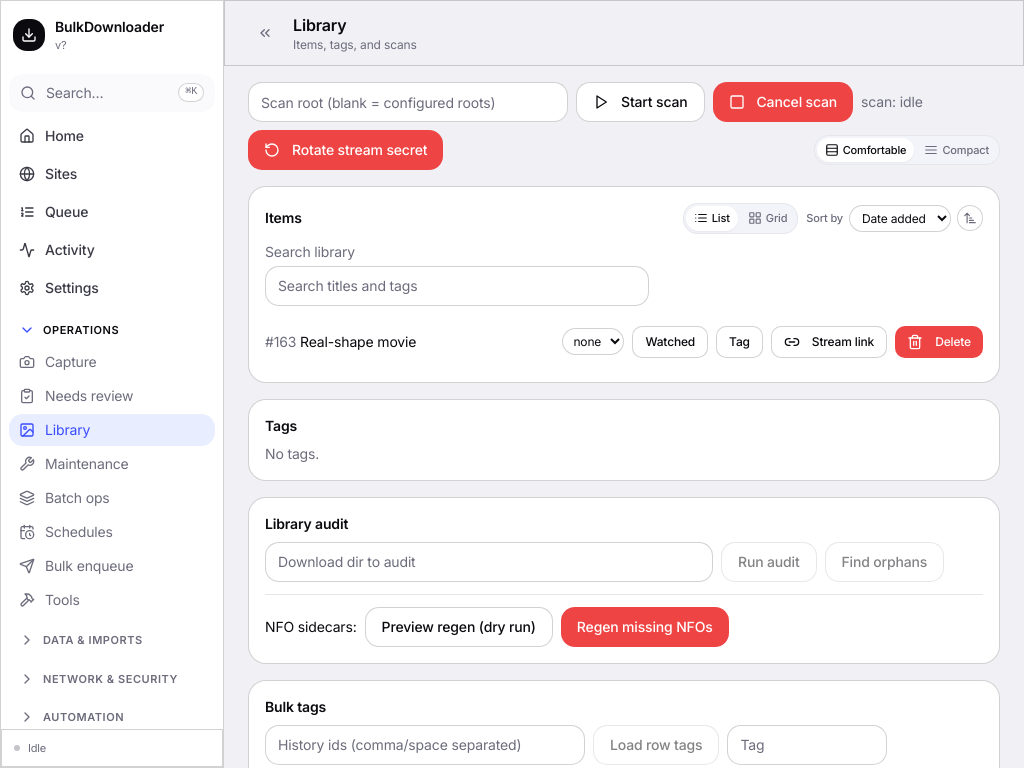
F019 Library item preview with BD's row shape › shows the file_path and tag names of a real browse row
Click the button "Real-shape movie".
click(358, 342)  # box [300,332,416,352]
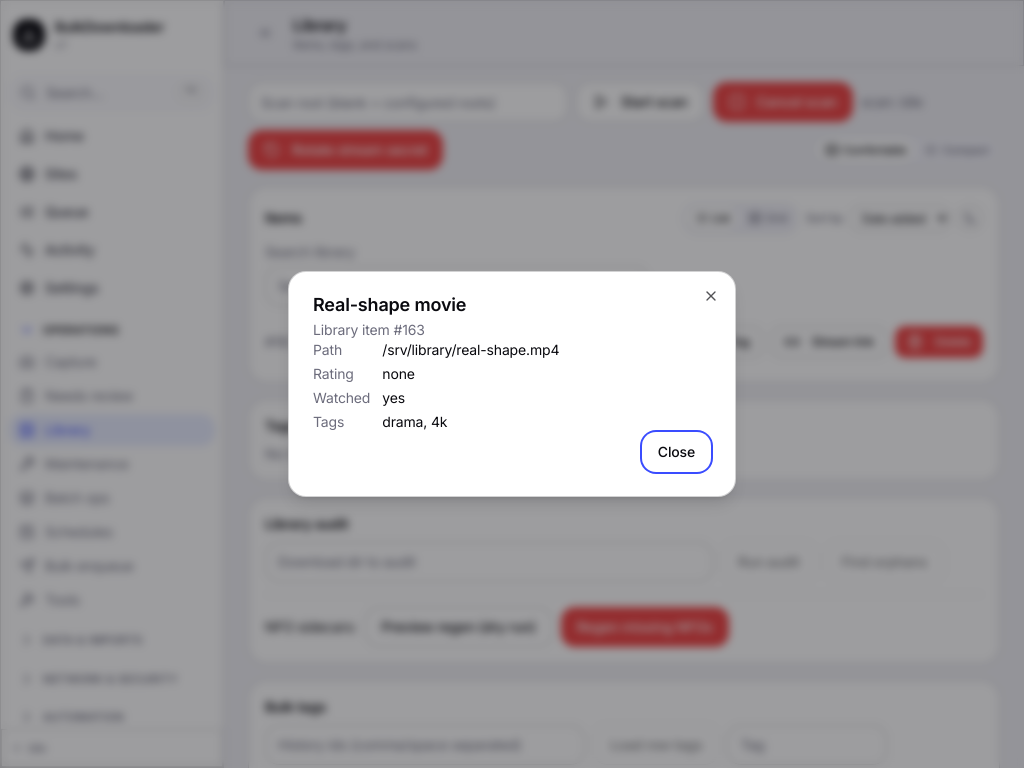
Result: the text "/srv/library/real-shape.mp4" is shown at [382,341,559,358]
Result: the text "drama, 4k" is shown at [382,413,447,430]
Result: the text "yes" is shown at [382,389,405,406]
